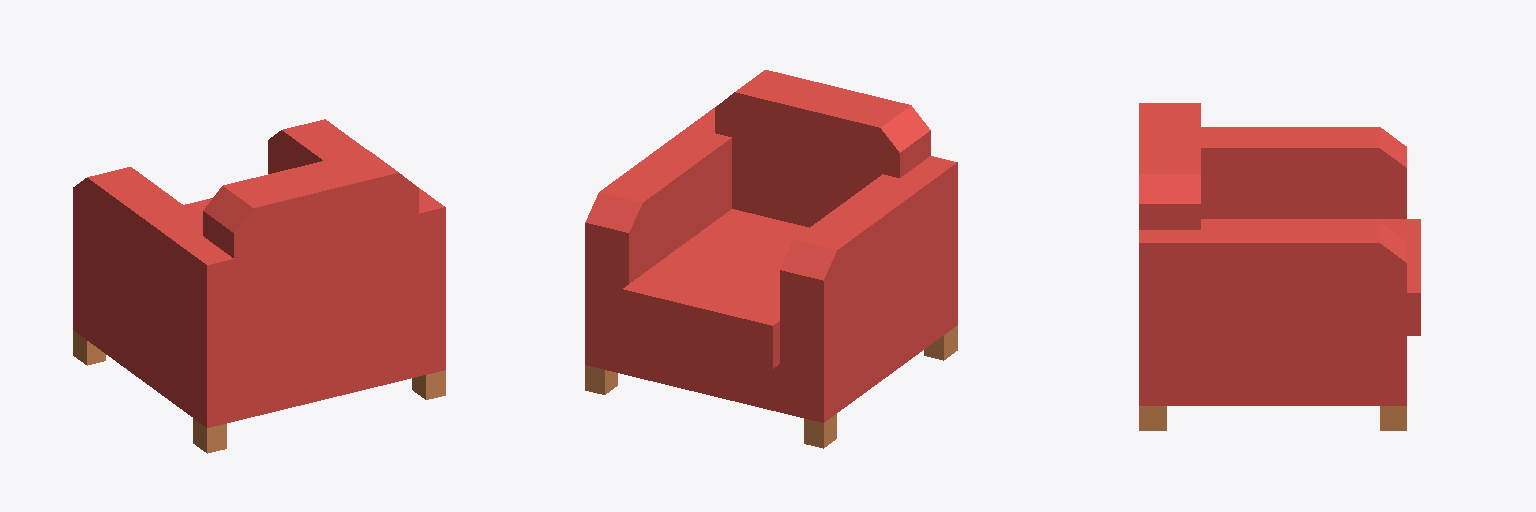
The model's file is loungeChair.obj.
3 renders of one model, left to right at view 1: azimuth 30°, elevation 25°; view 2: azimuth 150°, elevation 25°; view 3: azimuth 270°, elevation 25°, orthographic.
Visible parts, largest first — view 1: loungeChair; view 2: loungeChair; view 3: loungeChair.
Part boxes in pixels (bbox=[...]): loungeChair: bbox=[73, 119, 445, 453]; loungeChair: bbox=[585, 70, 957, 448]; loungeChair: bbox=[1139, 103, 1420, 430].
Size of the model in its own units: 1.67 by 1.57 by 1.71.